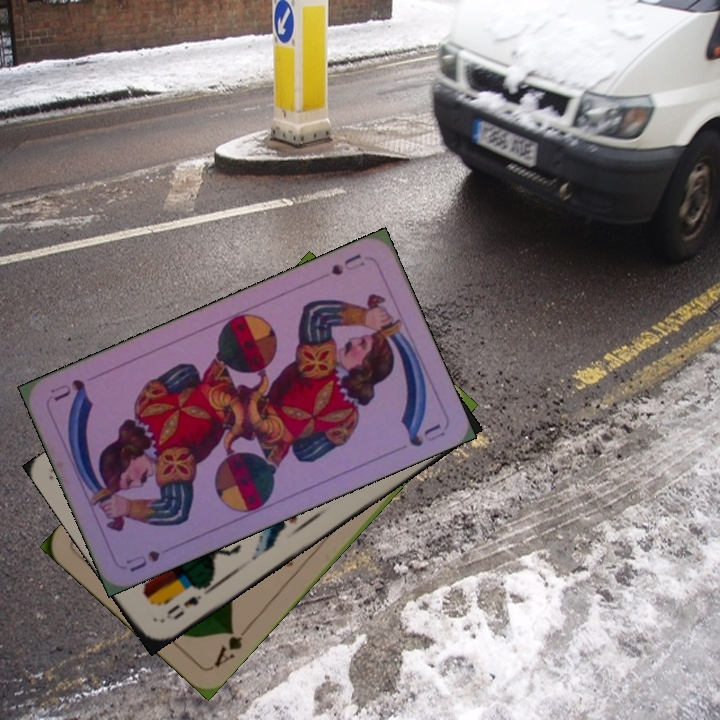EO: (161, 582, 207, 623)
GA: (209, 621, 252, 670)
SU: (122, 546, 163, 575), (326, 249, 367, 278)
